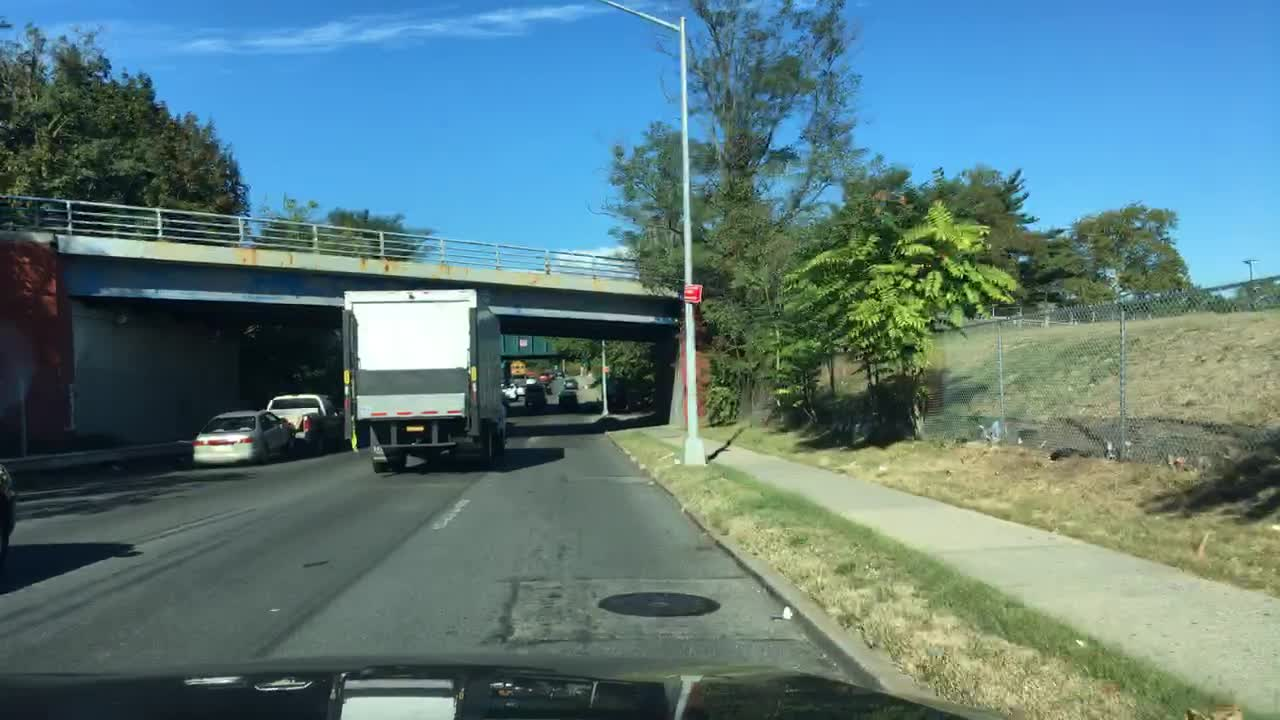bus: (511, 358, 526, 378)
car: (190, 409, 298, 466), (0, 462, 13, 581), (522, 386, 546, 408), (560, 390, 576, 406), (501, 384, 516, 400), (562, 378, 576, 389), (524, 375, 539, 385), (539, 369, 547, 381)
traffic sign: (680, 284, 702, 304)
truck: (339, 289, 507, 472), (265, 391, 338, 456)
